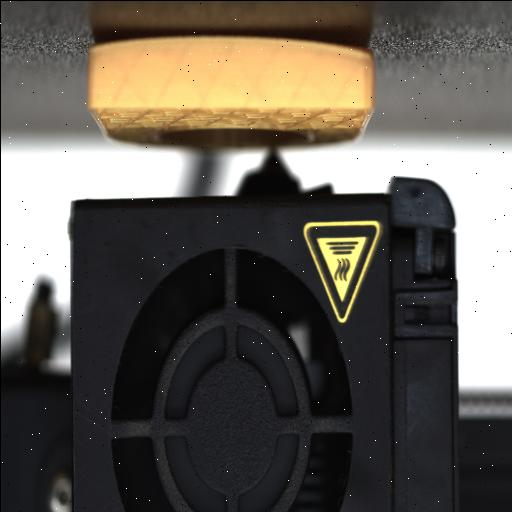warp: (326, 36, 378, 66), (86, 34, 130, 58)
